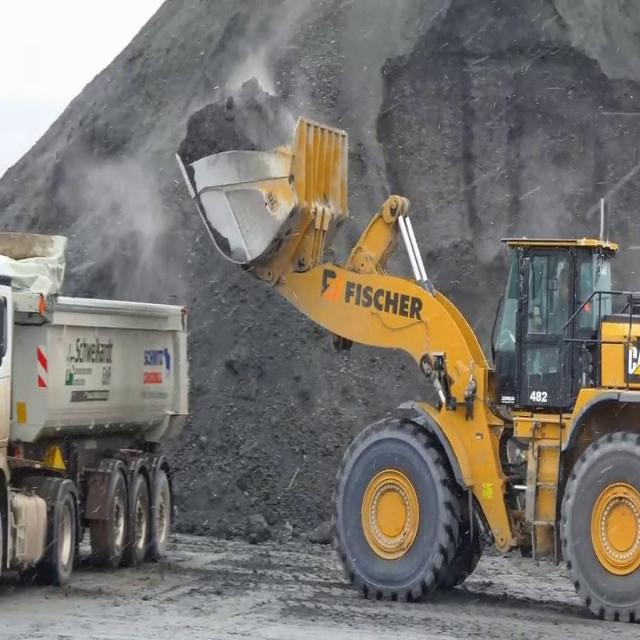Dump Truck: (0, 228, 190, 589)
Loader: (175, 113, 640, 622)
